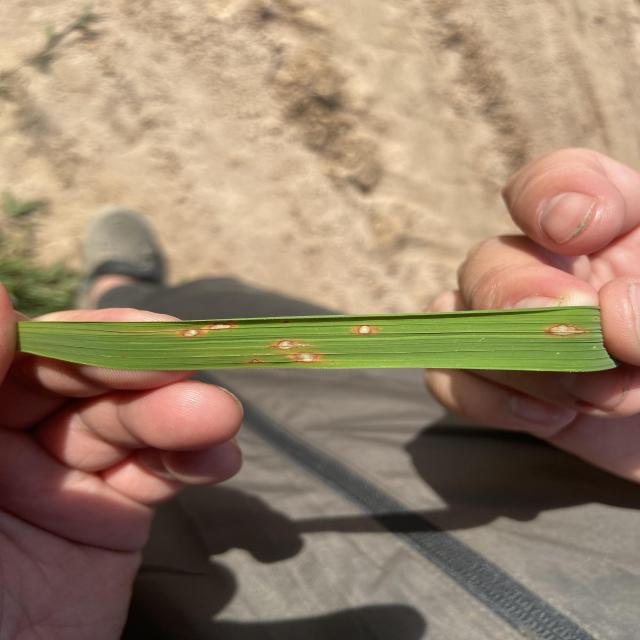Dao on: (548, 324, 588, 335), (268, 341, 314, 350), (292, 352, 318, 362), (206, 323, 232, 330), (184, 328, 204, 337), (355, 325, 373, 334), (251, 358, 259, 363), (595, 318, 597, 320)
